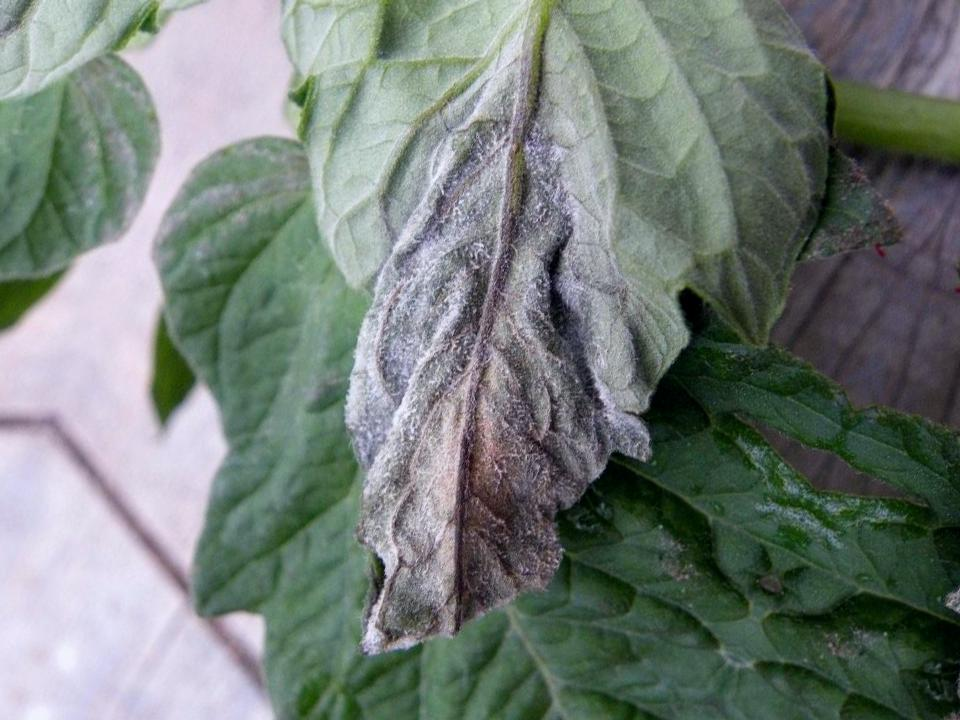Tomato leaf late blight: (30, 0, 912, 720)
